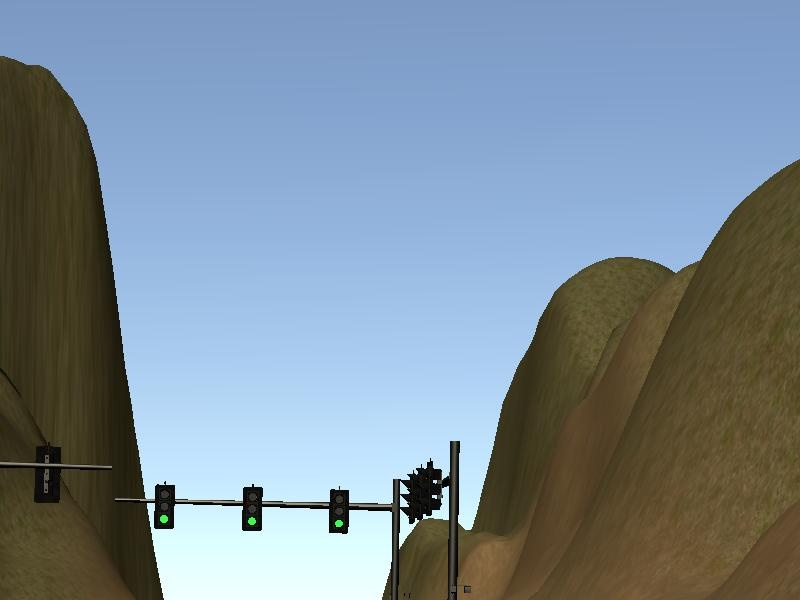green: (239, 487, 263, 532), (152, 484, 176, 528), (330, 486, 350, 533)
